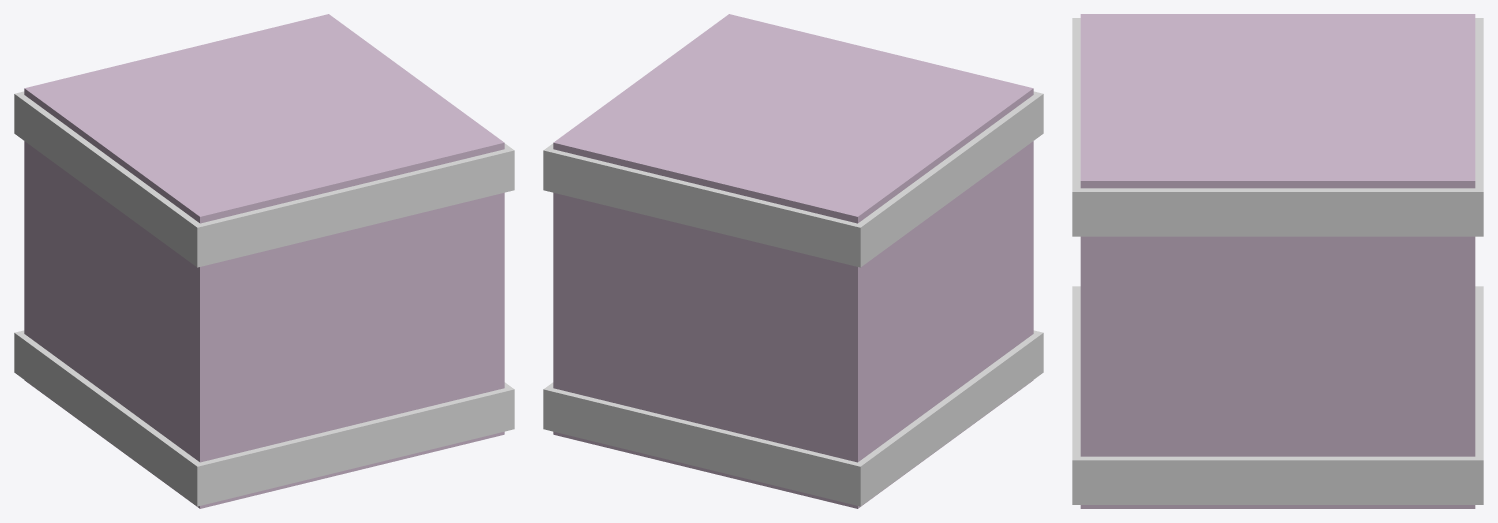
Rendered from hallowed_crate.glb.
3 views of the same model, side by side, from view 1: azimuth 30°, elevation 25°; view 2: azimuth 150°, elevation 25°; view 3: azimuth 270°, elevation 25° (orthographic). The views are drawn at different scales.
Visible parts, largest first — view 1: hallowed_crate_v0; view 2: hallowed_crate_v0; view 3: hallowed_crate_v0.
Boxes of the visible parts, x1=… form: hallowed_crate_v0: x1=14, y1=14, x2=514, y2=508; hallowed_crate_v0: x1=543, y1=14, x2=1043, y2=508; hallowed_crate_v0: x1=1072, y1=14, x2=1483, y2=508.
Bounding box in the file's own units: 0.25 × 0.22 × 0.25.
